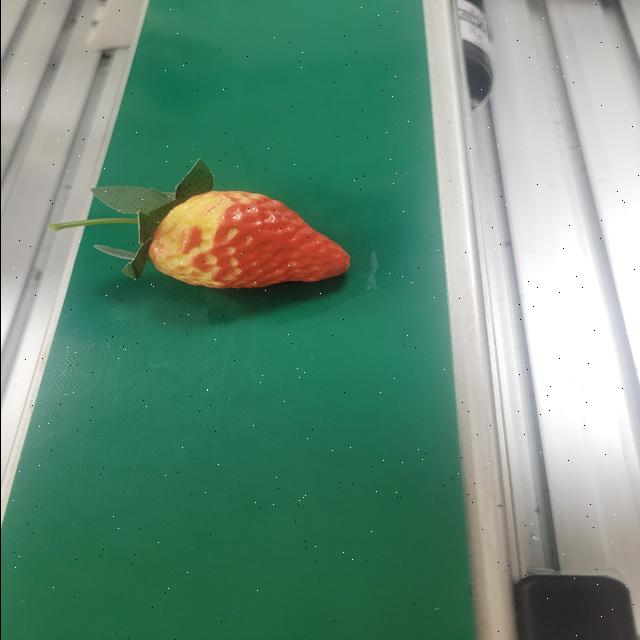Moldy Strawberry: (124, 182, 354, 290)
